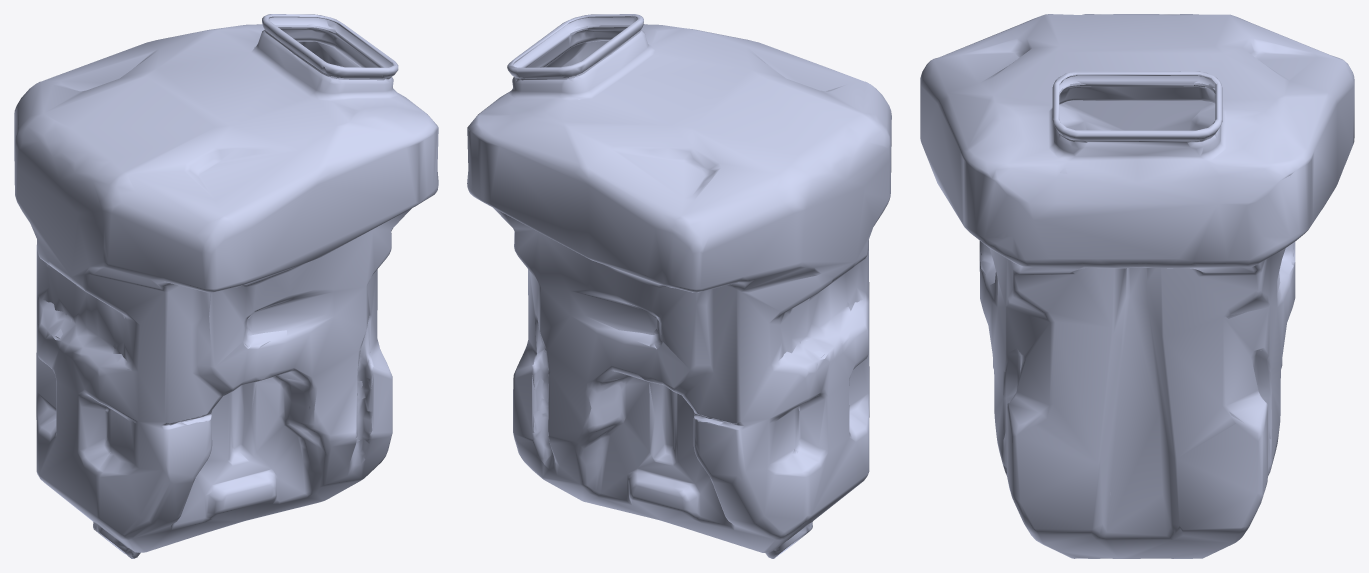
3 views of the same model, side by side, from view 1: azimuth 30°, elevation 25°; view 2: azimuth 150°, elevation 25°; view 3: azimuth 270°, elevation 25° (orthographic). The views are drawn at different scales.
Visible parts, largest first — view 1: tanque_spline; view 2: tanque_spline; view 3: tanque_spline.
Boxes of the visible parts, x1,y1,x2,y2 form: tanque_spline: (14, 14, 438, 558); tanque_spline: (467, 14, 891, 558); tanque_spline: (920, 14, 1354, 558).
Bounding box in the file's own units: 79.62 × 111 × 83.09.
